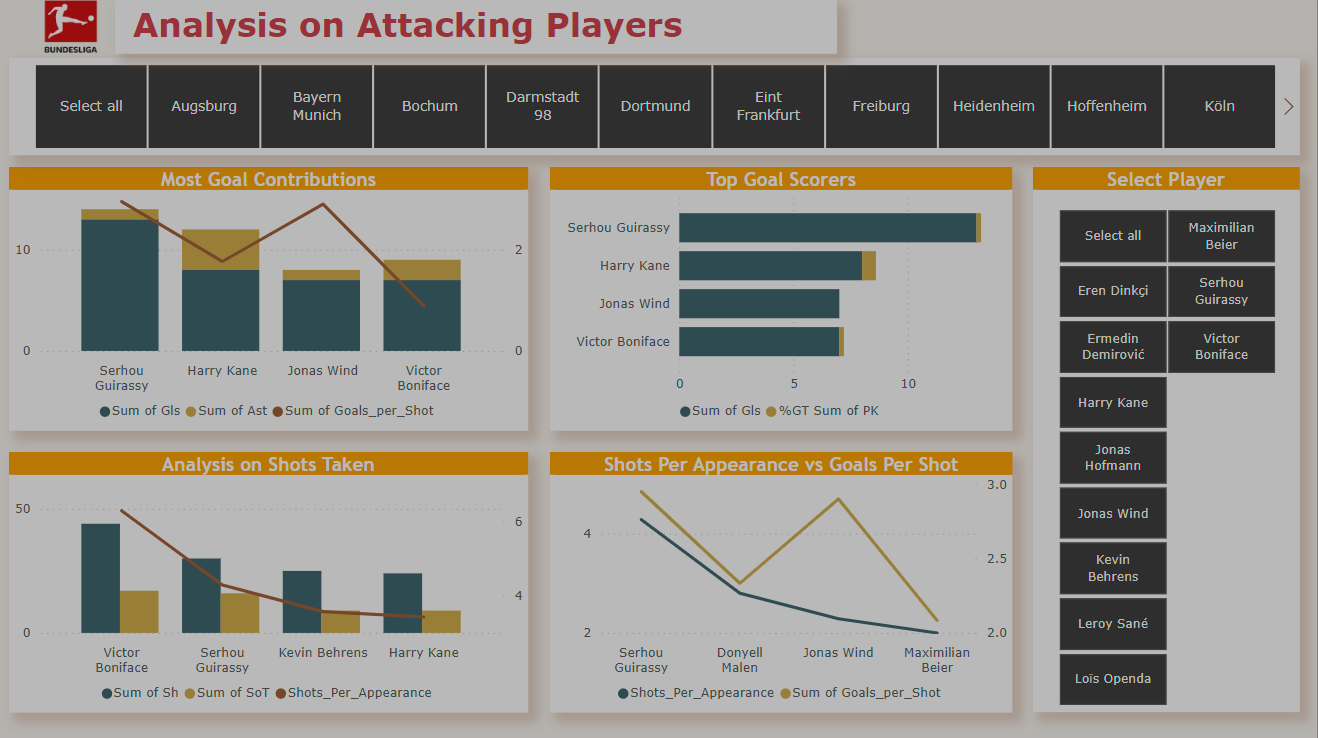

Layout of this report page (visuals, bound fields, positions):
{"tool":"powerbi","page":{"name":"Analysis on attacking Player","canvas":[1280,720],"ordinal":1},"visuals":[{"type":"lineStackedColumnComboChart","title":"Most Goal Contributions","fields":{"Category":["Bundesliga_2023-2024_player_data.Player"],"Y":["Bundesliga_2023-2024_player_data.Gls","Bundesliga_2023-2024_player_data.Ast"],"Y2":["Bundesliga_2023-2024_player_data.Goals_per_Shot"]},"box":[15.6,166.3,501.9,254.8],"z":0},{"type":"slicer","fields":{"Values":["Bundesliga_2023-2024_player_data.ClubName"]},"box":[15.5,60.9,1248.1,93.8],"z":1000},{"type":"textbox","box":[117.9,3.9,698,53.2],"z":2000},{"type":"image","box":[6.8,0,136.2,61.3],"z":3000},{"type":"slicer","title":"Select Player","fields":{"Values":["Bundesliga_2023-2024_player_data.Player"]},"box":[1005.7,166.3,257.8,527.2],"z":4000},{"type":"barChart","title":"Top Goal Scorers","fields":{"Category":["Bundesliga_2023-2024_player_data.Player"],"Y":["Bundesliga_2023-2024_player_data.Gls","Bundesliga_2023-2024_player_data.PK"]},"box":[538.8,166.3,447.4,254.8],"z":5000},{"type":"lineClusteredColumnComboChart","title":"Analysis on Shots Taken","fields":{"Category":["Bundesliga_2023-2024_player_data.Player"],"Y":["Bundesliga_2023-2024_player_data.Sh","Bundesliga_2023-2024_player_data.SoT"],"Y2":["Bundesliga_2023-2024_player_data.Shots_Per_Appearance"]},"box":[15.6,441.6,501.9,251.9],"z":6000},{"type":"lineChart","title":"Shots Per Appearance vs Goals Per Shot","fields":{"Y":["Bundesliga_2023-2024_player_data.Shots_Per_Appearance"],"Y2":["Bundesliga_2023-2024_player_data.Goals_per_Shot"],"Category":["Bundesliga_2023-2024_player_data.Player"]},"box":[538.8,441.6,447.4,251.9],"z":7000}]}

Visuals, with their boxes in screenshot pixels (x1, y1, x2, y2), scaled from the page's 1280x720 canvas onto the 1318x738 screenshot:
"Most Goal Contributions" lineStackedColumnComboChart: Rect(16, 170, 533, 432)
slicer - Bundesliga_2023-2024_player_data.ClubName: Rect(16, 62, 1301, 159)
textbox: Rect(121, 4, 840, 59)
image: Rect(7, 0, 147, 63)
"Select Player" slicer: Rect(1036, 170, 1301, 711)
"Top Goal Scorers" barChart: Rect(555, 170, 1015, 432)
"Analysis on Shots Taken" lineClusteredColumnComboChart: Rect(16, 453, 533, 711)
"Shots Per Appearance vs Goals Per Shot" lineChart: Rect(555, 453, 1015, 711)
